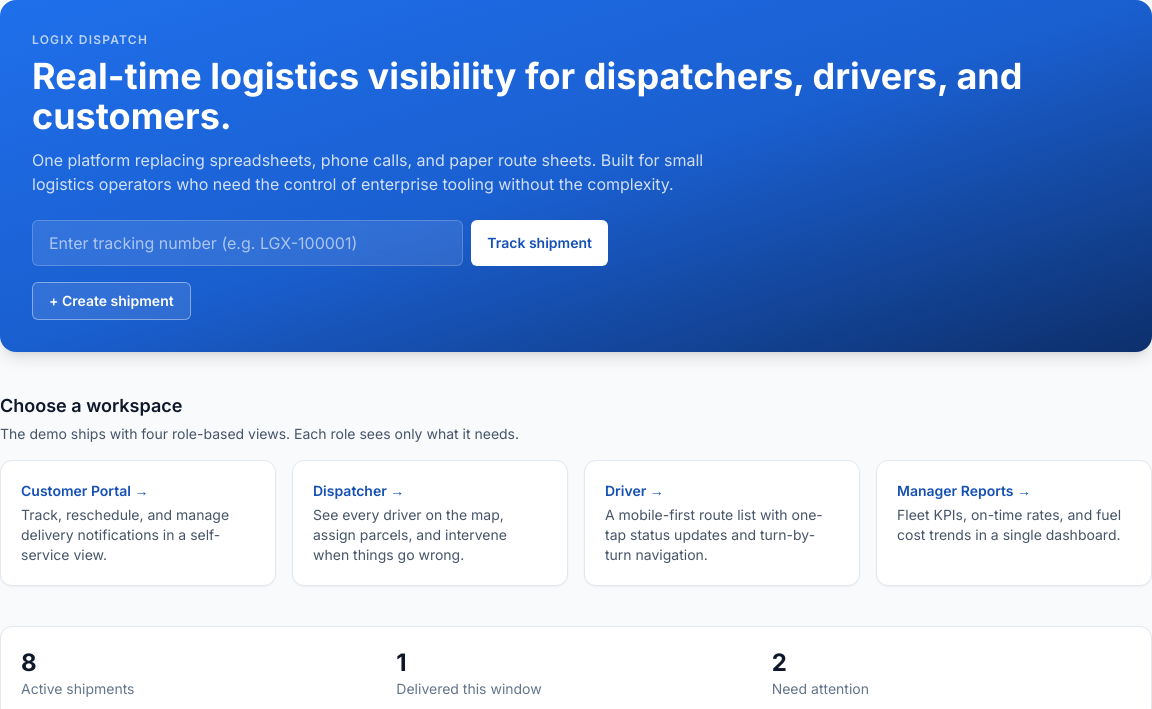
Test: HomePage › rejects an empty submission
Click the button "Track shipment": click(540, 243) 471,220 -> 608,266
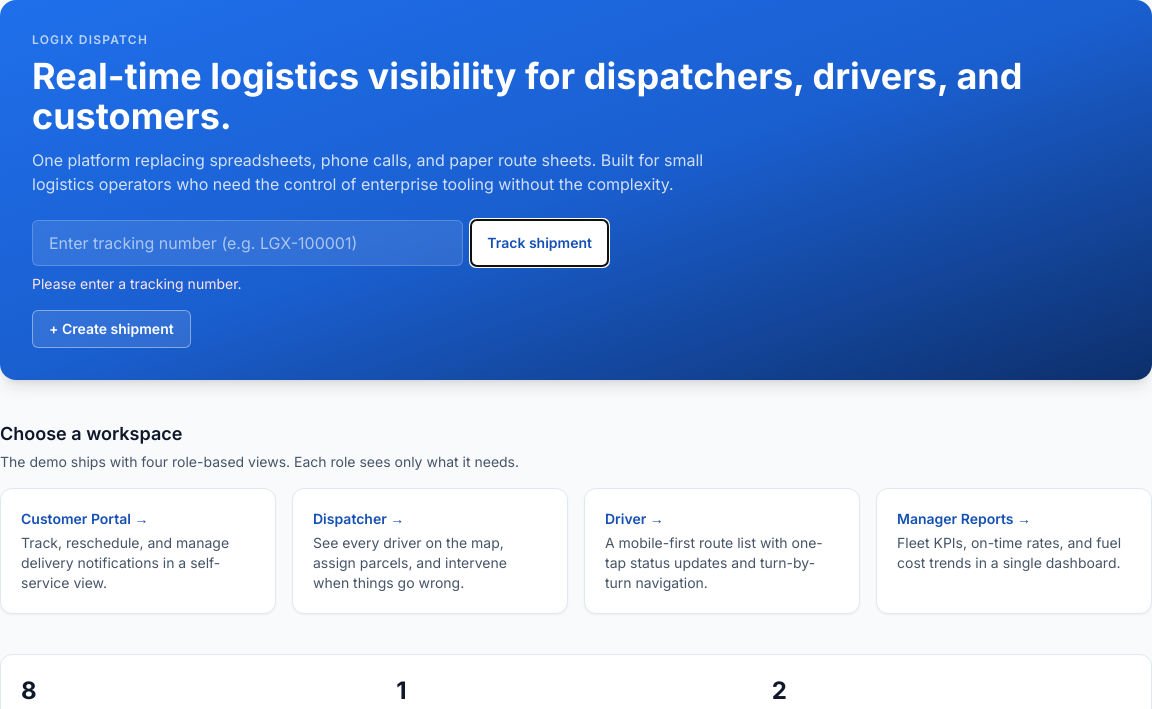
expect the text "Please enter a tracking number." is shown: met, box 32,275 -> 242,292
